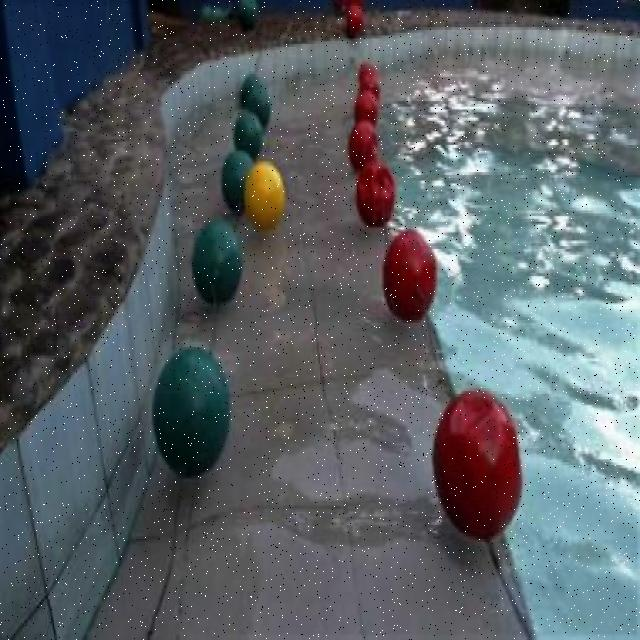buoy: (432, 387, 522, 538), (151, 345, 230, 476), (381, 227, 437, 321), (190, 220, 241, 305), (242, 158, 284, 230), (355, 157, 393, 226), (220, 147, 255, 209), (347, 120, 377, 170), (232, 108, 262, 158), (245, 84, 271, 124), (353, 87, 377, 126), (240, 73, 261, 108), (360, 70, 380, 105), (238, 0, 258, 27), (346, 1, 362, 32)
